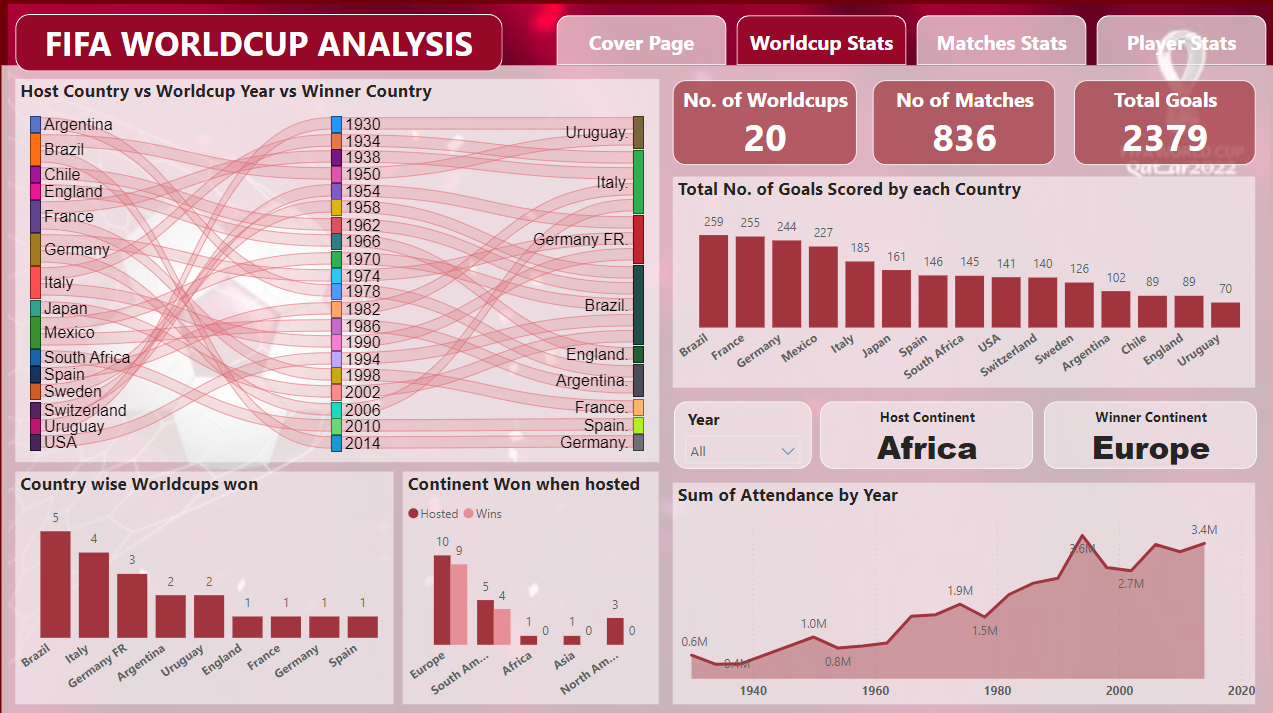

The dashboard page shown, as its layout file describes it:
{"tool":"powerbi","page":{"name":"Worldcup Stats","canvas":[1280,720],"ordinal":1},"visuals":[{"type":"image","box":[0,0,1280,720],"z":0},{"type":"shape","box":[2.5,66.2,1277.5,653.8],"z":1000},{"type":"shape","box":[16.2,15,487.5,57.5],"z":2000},{"type":"sankey02300D1BE6F5427989F3DE31CCA9E0F32020","title":"Host Country vs Worldcup Year vs Winner Country","fields":{"Source":["Sankey Table.Host"],"Destination":["Sankey Table.Year"]},"box":[15.7,80,644.3,382.9],"z":3000},{"type":"columnChart","title":"Country wise Worldcups won","fields":{"Category":["WorldCups.Winner"],"Y":["CountNonNull(WorldCups.Year)"]},"box":[16.2,472.5,378.8,232.5],"z":4000},{"type":"clusteredColumnChart","title":"Continent Won when hosted","fields":{"Category":["WorldCups.Host Continent"],"Y":["CountNonNull(WorldCups.Host Continent)","Sum(WorldCups.Continent Wins)"]},"box":[403.8,472.5,256.2,232.5],"z":5000},{"type":"slicer","fields":{"Values":["WorldCups.Year"]},"box":[674.8,402,137.5,67.5],"z":6000},{"type":"card","title":"No. of Worldcups","fields":{"Values":["CountNonNull(WorldCups.Year)"]},"box":[673.8,81.2,183.8,85],"z":7000},{"type":"card","title":"Total Goals","fields":{"Values":["Sum(WorldCups.GoalsScored)"]},"box":[1075,81.2,181.2,85],"z":8000},{"type":"card","title":"No of Matches","fields":{"Values":["Sum(WorldCups.MatchesPlayed)"]},"box":[873.8,81.2,182.5,85],"z":9000},{"type":"card","title":"Host Continent","fields":{"Values":["Min(WorldCups.Host Continent)"]},"box":[821,402,212.5,67.5],"z":10000},{"type":"card","title":"Winner Continent","fields":{"Values":["Min(WorldCups.Winner Continent)"]},"box":[1044.8,402,212.5,67.5],"z":11000},{"type":"clusteredColumnChart","title":"Total No. of Goals Scored by each Country","fields":{"Category":["WorldCups.Host"],"Y":["Sum(WorldCups.GoalsScored)"]},"box":[673.8,177.2,582.5,211.2],"z":12000},{"type":"areaChart","fields":{"Category":["WorldCups.Year"],"Y":["Sum(WorldCups.Attendance)"]},"box":[673.8,483.8,582.5,221.2],"z":13000},{"type":"pageNavigator","box":[557.1,15.7,710,50],"z":14000},{"type":"actionButton","box":[1080,85.7,182.9,75.7],"z":15000}]}

Visuals, with their boxes in screenshot pixels (x1, y1, x2, y2), scaled from the page's 1280x720 canvas onto the 1273x713 screenshot:
image: 0,0,1272,712
shape: 2,66,1272,712
shape: 16,15,501,72
"Host Country vs Worldcup Year vs Winner Country" sankey02300D1BE6F5427989F3DE31CCA9E0F32020: 16,79,656,458
"Country wise Worldcups won" columnChart: 16,468,393,698
"Continent Won when hosted" clusteredColumnChart: 402,468,656,698
slicer - WorldCups.Year: 671,398,808,465
"No. of Worldcups" card: 670,80,853,165
"Total Goals" card: 1069,80,1249,165
"No of Matches" card: 869,80,1051,165
"Host Continent" card: 817,398,1028,465
"Winner Continent" card: 1039,398,1250,465
"Total No. of Goals Scored by each Country" clusteredColumnChart: 670,175,1249,385
areaChart - WorldCups.Year x Sum(WorldCups.Attendance): 670,479,1249,698
pageNavigator: 554,16,1260,65
actionButton: 1074,85,1256,160
